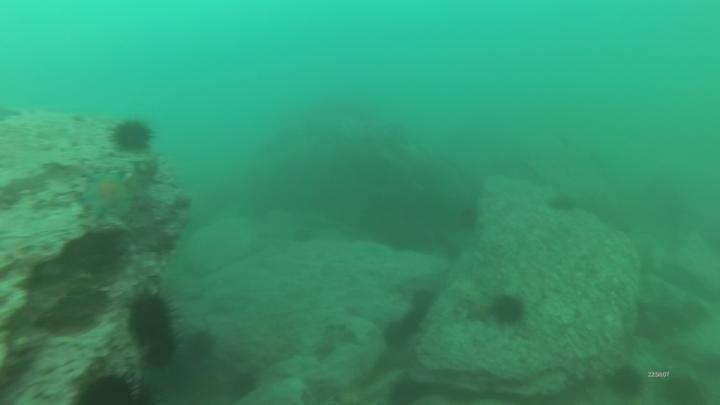holothurian: (78, 169, 138, 225)
starfish: (125, 291, 177, 348), (76, 369, 147, 405), (108, 118, 159, 156), (658, 372, 712, 405), (606, 363, 649, 403), (141, 336, 181, 372), (489, 292, 528, 328), (381, 319, 412, 354), (387, 376, 424, 405), (545, 194, 579, 215), (410, 288, 437, 313), (457, 206, 481, 232)
